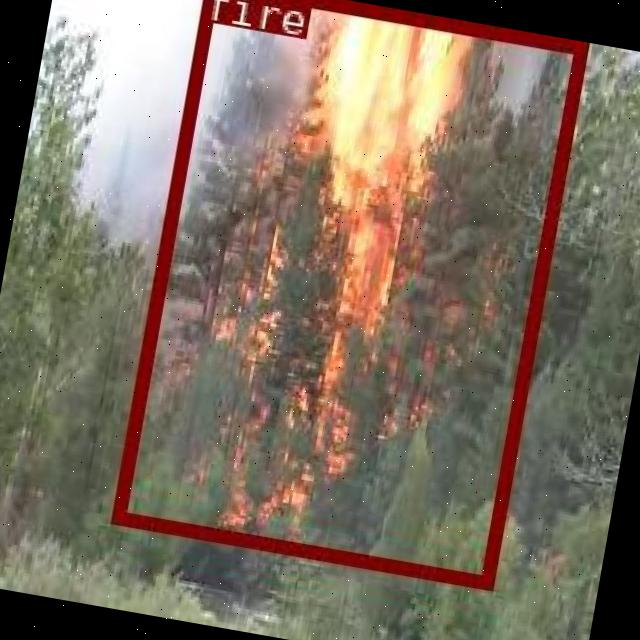fire: (107, 0, 583, 584)
